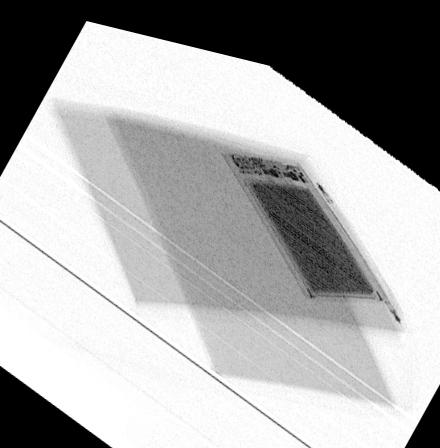Powerbank: (219, 140, 387, 282)
